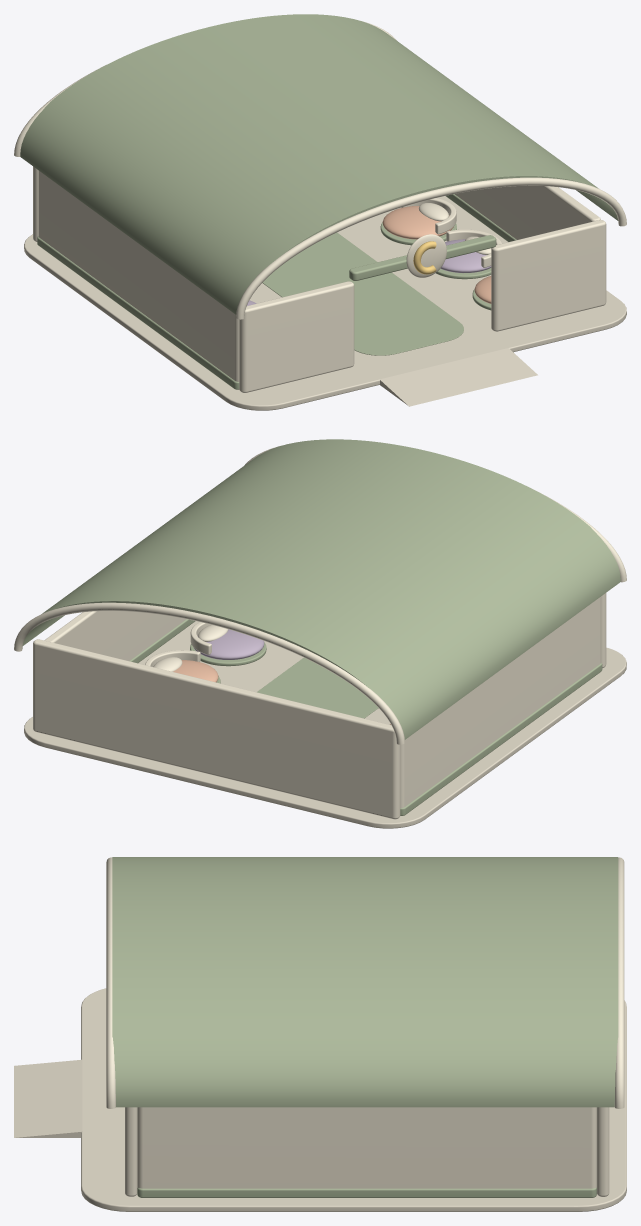
Rendered from ball_home.glb.
3 views of the same model, one above another, from view 1: azimuth 30°, elevation 25°; view 2: azimuth 150°, elevation 25°; view 3: azimuth 270°, elevation 25° (orthographic). The views are drawn at different scales.
Parts seen in each view (by area): view 1: Sage_barrel_roof, Home_foundation, Side_wall, Quiet_central_rug, Front_wall.001, Front_wall, Side_wall.001, Level_access_ramp, Cream_roof_edge, Wall_base_trim, Entrance_lintel, Soft_sleep_cushion.006 (+5 smaller); view 2: Sage_barrel_roof, Rear_shelter_wall, Side_wall, Home_foundation, Side_wall.001, Cream_roof_edge.001, Quiet_central_rug, Wall_base_trim, Soft_sleep_cushion.005, Soft_sleep_cushion.006, Wall_base_trim.001; view 3: Sage_barrel_roof, Side_wall.001, Home_foundation, Level_access_ramp, Wall_base_trim.001, Cream_roof_edge.001, Cream_roof_edge, Front_wall.001, Rear_shelter_wall.
Part boxes in pixels (left/top/right/bottom): Sage_barrel_roof: left=20, top=14, right=618, bottom=314; Home_foundation: left=24, top=196, right=626, bottom=410; Side_wall: left=38, top=171, right=239, bottom=381; Quiet_central_rug: left=262, top=232, right=463, bottom=355; Front_wall.001: left=491, top=220, right=606, bottom=331; Front_wall: left=239, top=281, right=354, bottom=392; Side_wall.001: left=455, top=185, right=600, bottom=239; Level_access_ramp: left=380, top=348, right=537, bottom=406; Cream_roof_edge: left=236, top=177, right=626, bottom=319; Wall_base_trim: left=37, top=236, right=239, bottom=389; Entrance_lintel: left=349, top=235, right=496, bottom=280; Soft_sleep_cushion.006: left=382, top=206, right=453, bottom=239; Sage_barrel_roof: left=22, top=439, right=620, bottom=739; Rear_shelter_wall: left=33, top=639, right=400, bottom=819; Side_wall: left=400, top=597, right=600, bottom=808; Home_foundation: left=24, top=621, right=626, bottom=828; Side_wall.001: left=44, top=611, right=186, bottom=660; Cream_roof_edge.001: left=14, top=602, right=404, bottom=744; Quiet_central_rug: left=257, top=657, right=378, bottom=718; Wall_base_trim: left=400, top=663, right=602, bottom=815; Soft_sleep_cushion.005: left=193, top=629, right=264, bottom=659; Soft_sleep_cushion.006: left=173, top=660, right=218, bottom=682; Wall_base_trim.001: left=129, top=619, right=195, bottom=663; Sage_barrel_roof: left=112, top=857, right=618, bottom=1107; Side_wall.001: left=137, top=1107, right=596, bottom=1188; Home_foundation: left=81, top=988, right=626, bottom=1211; Level_access_ramp: left=14, top=1059, right=82, bottom=1137; Wall_base_trim.001: left=137, top=1187, right=596, bottom=1197; Cream_roof_edge.001: left=614, top=857, right=624, bottom=1108; Cream_roof_edge: left=106, top=857, right=115, bottom=1108; Front_wall.001: left=125, top=1107, right=137, bottom=1196; Rear_shelter_wall: left=597, top=1107, right=609, bottom=1196.
Size of the model in its own units: 9.2 by 3.8 by 10.78.
